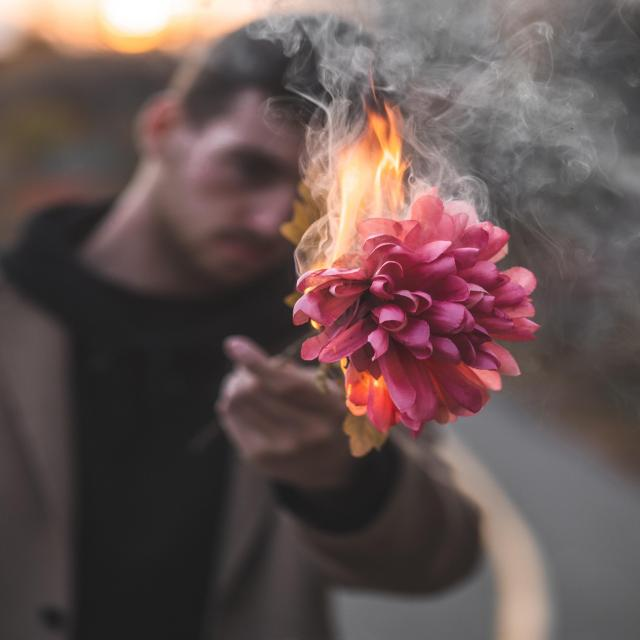fire: (270, 67, 410, 250)
